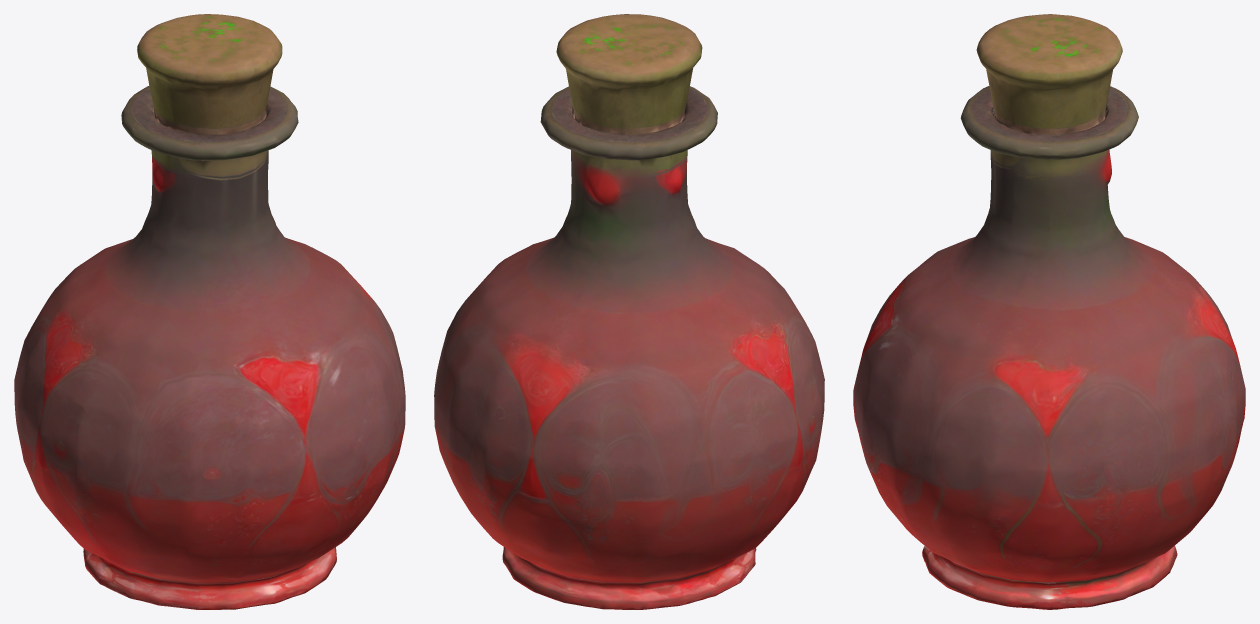
The model's file is hp_potion_0617081040_texture.fbx.
The picture shows the model from 3 angles, left to right: view 1: azimuth 30°, elevation 25°; view 2: azimuth 150°, elevation 25°; view 3: azimuth 270°, elevation 25°; orthographic projection.
Visible parts, largest first — view 1: Mesh_0; view 2: Mesh_0; view 3: Mesh_0.
Part boxes in pixels (left/top/right/bottom): Mesh_0: left=14, top=14, right=405, bottom=609; Mesh_0: left=434, top=14, right=824, bottom=609; Mesh_0: left=853, top=14, right=1245, bottom=609.
Size of the model in its own units: 138 by 200 by 138.
Materials: 1 (1 with a texture image).
